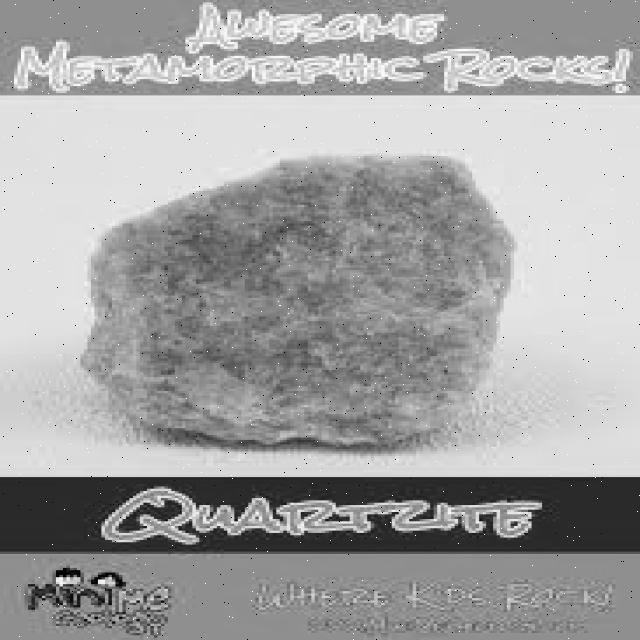Metamorphic: (81, 149, 500, 440)
